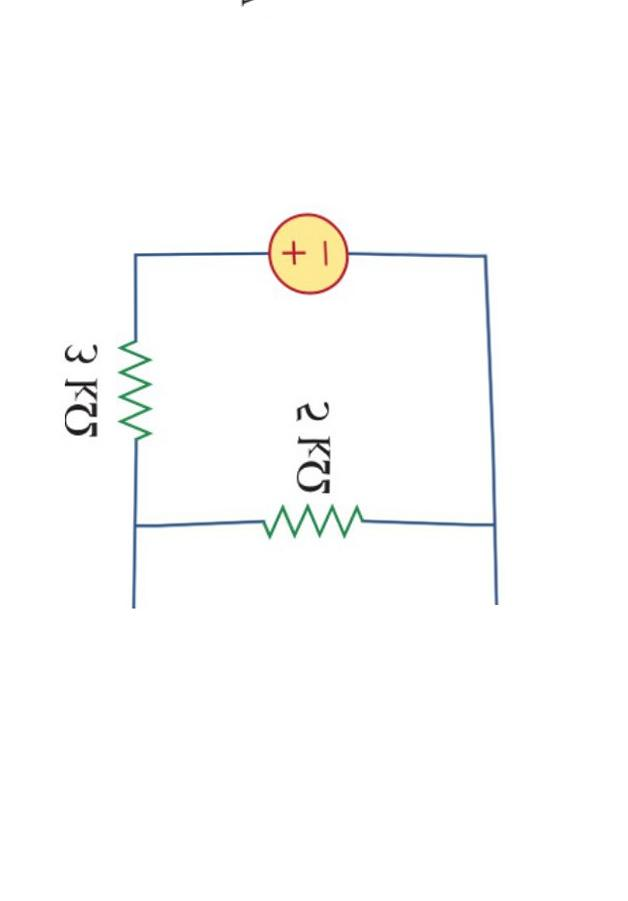Battery: (240, 180, 369, 329)
